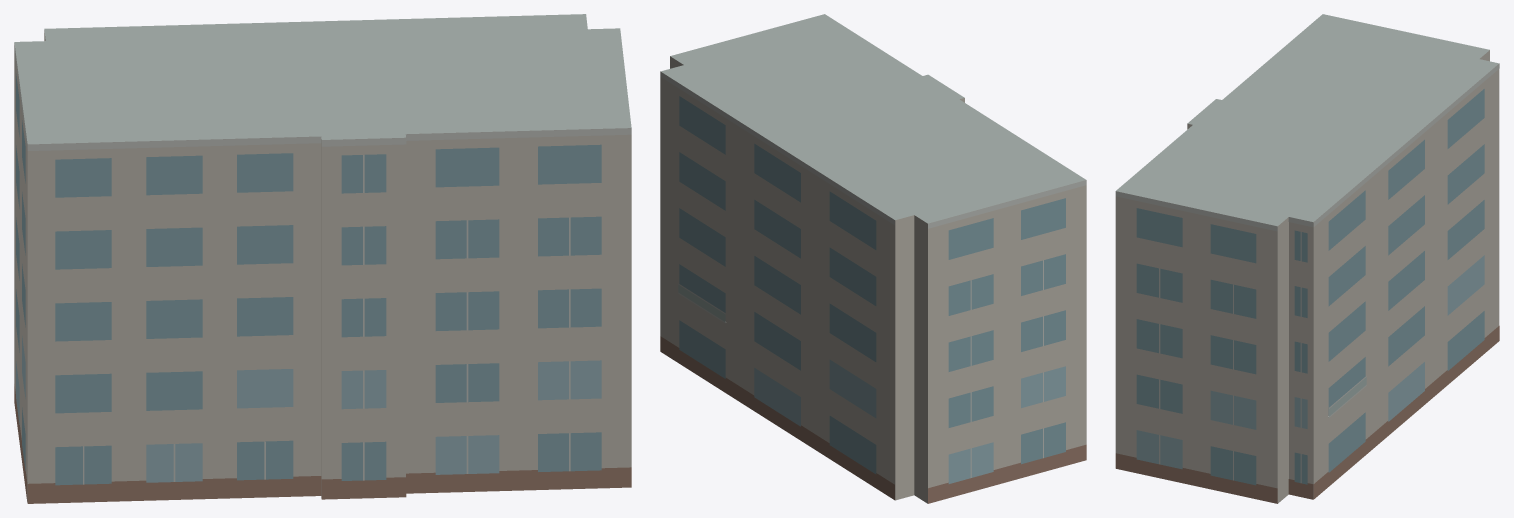
Rendered from survey-upis-32965050.glb.
3 renders of one model, left to right at view 1: azimuth 30°, elevation 25°; view 2: azimuth 150°, elevation 25°; view 3: azimuth 270°, elevation 25°, orthographic. The views are drawn at different scales.
Parts seen in each view (by area): view 1: survey-upis-32965050.tmp; view 2: survey-upis-32965050.tmp; view 3: survey-upis-32965050.tmp.
Part boxes in pixels (x1,y1,x2,y2): survey-upis-32965050.tmp: [14, 14, 631, 503]; survey-upis-32965050.tmp: [660, 14, 1086, 503]; survey-upis-32965050.tmp: [1115, 14, 1499, 503].
Size of the model in its own units: 21.5 by 13.1 by 16.43.
